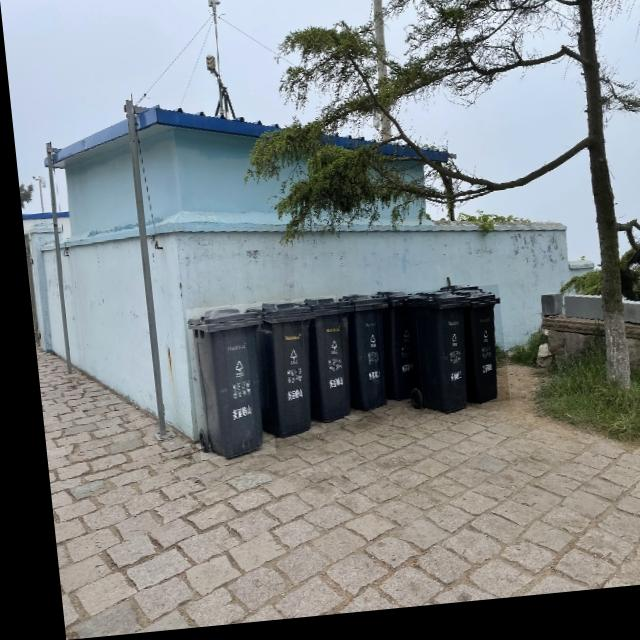garbage_bin: (179, 307, 266, 463), (235, 303, 316, 443), (396, 295, 472, 423), (292, 300, 353, 429), (329, 297, 390, 417), (448, 294, 500, 413), (364, 296, 409, 408)
